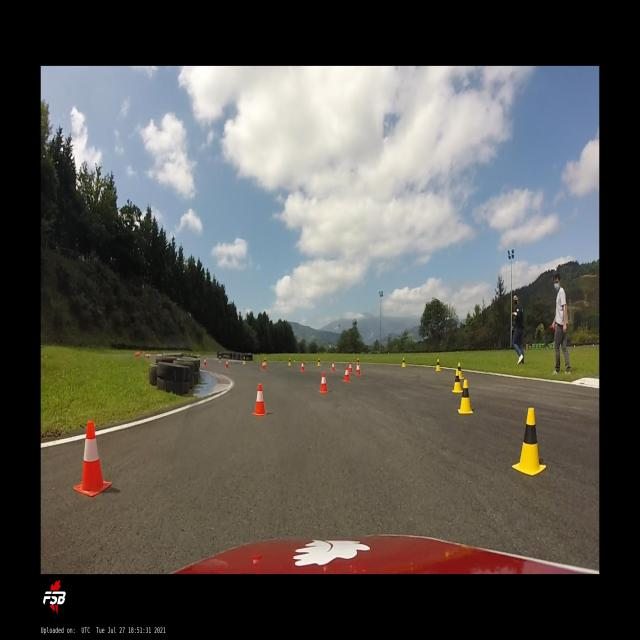orange_cone: (74, 421, 112, 496), (251, 384, 267, 416), (318, 372, 328, 393), (343, 366, 350, 383), (355, 362, 361, 376), (348, 362, 353, 373), (331, 362, 335, 372), (301, 362, 304, 372), (262, 360, 265, 370), (226, 360, 229, 368), (204, 358, 206, 366), (148, 354, 149, 360), (138, 353, 140, 356), (136, 353, 136, 357), (144, 352, 144, 356)
yellow_cone: (512, 408, 546, 476), (458, 379, 472, 414), (452, 369, 463, 392), (458, 362, 463, 379), (435, 359, 441, 371), (402, 357, 406, 367), (317, 357, 321, 366), (288, 357, 292, 366), (264, 357, 267, 365), (243, 357, 246, 364), (357, 358, 359, 362), (220, 358, 221, 362)
